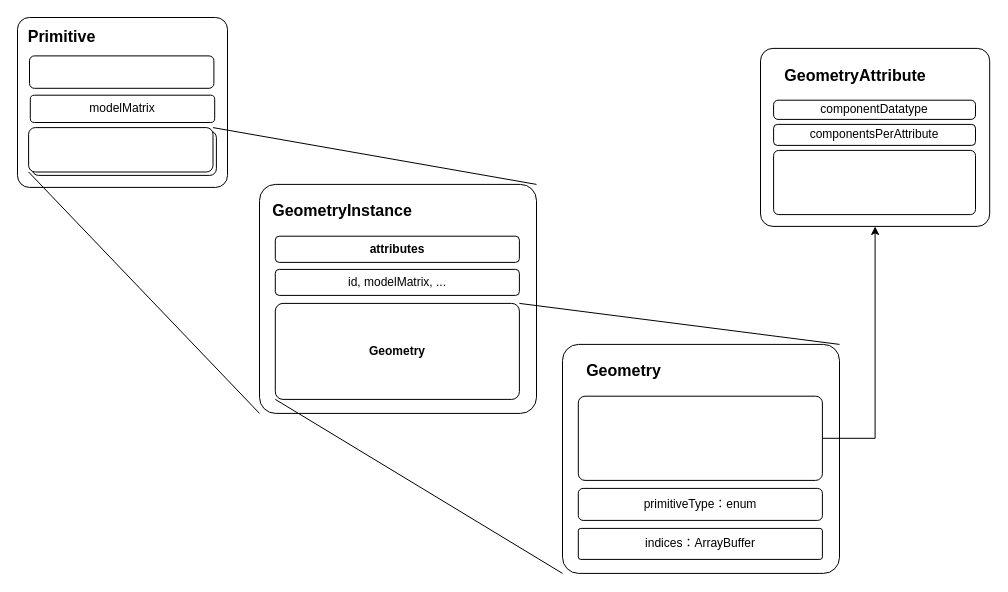
Image size: 1008x592. Some labels were removed from this diagram. The box of each missing label's shape, as (x1, y1, x2, y2) in pixels:
[GeometryInstance, ...]: (28, 127, 213, 172)
appearance: (28, 55, 214, 88)
GeometryAttributes: (577, 395, 822, 480)
values：ArrayBuffer: (773, 149, 976, 215)
